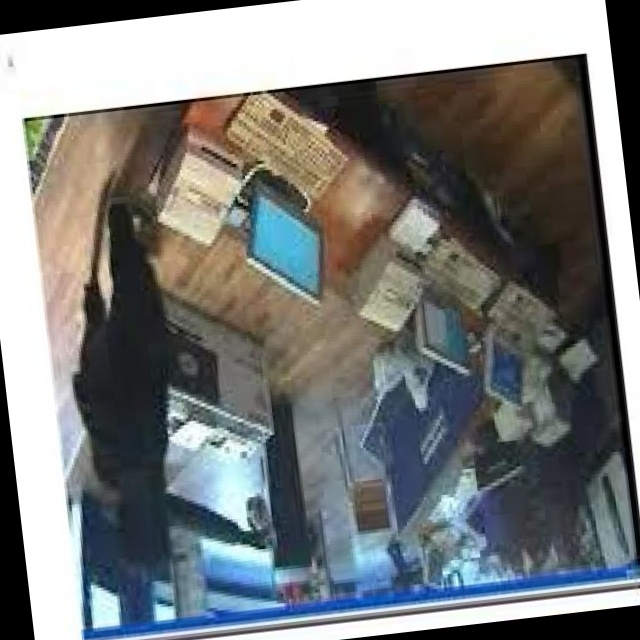gun: (68, 164, 135, 307)
